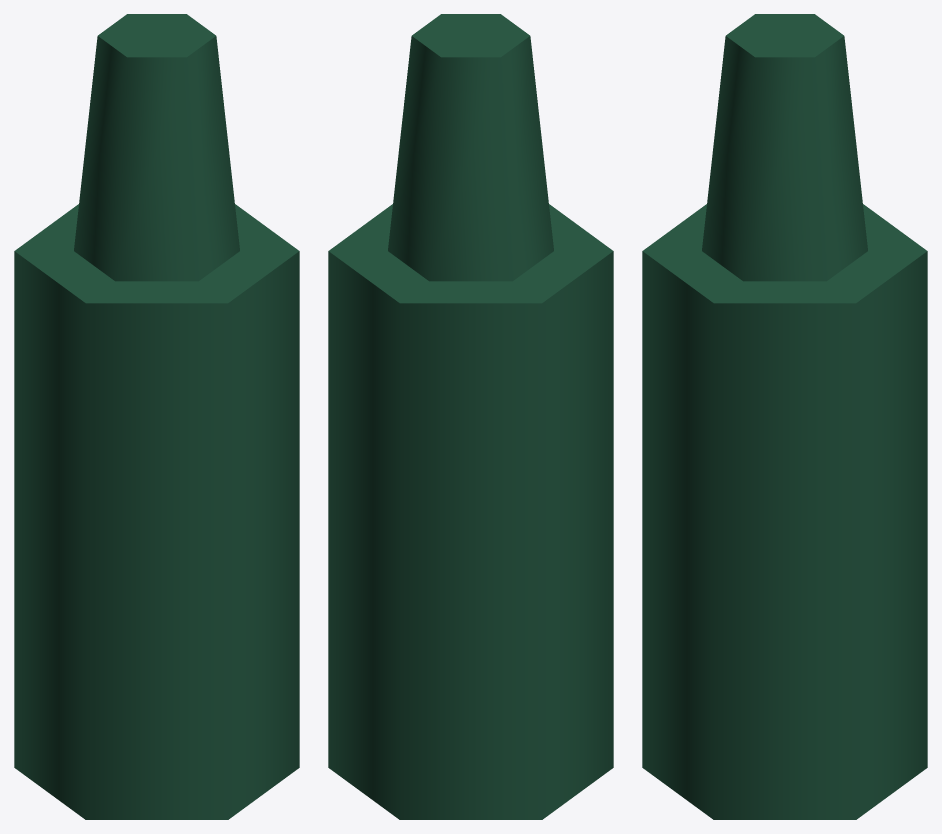
File: bottle.glb
The picture shows the model from 3 angles, left to right: view 1: azimuth 30°, elevation 25°; view 2: azimuth 150°, elevation 25°; view 3: azimuth 270°, elevation 25°; orthographic projection.
Parts seen in each view (by area): view 1: body; view 2: body; view 3: body.
Boxes of the visible parts, box(x1,y1,x2,y2) form: body: box(14, 14, 299, 819); body: box(328, 14, 613, 819); body: box(642, 14, 927, 819).
Size of the model in its own units: 0.1039 by 0.34 by 0.12.
